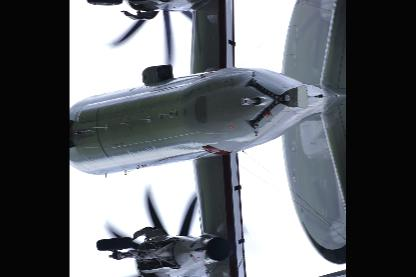C5: (69, 0, 346, 276)
